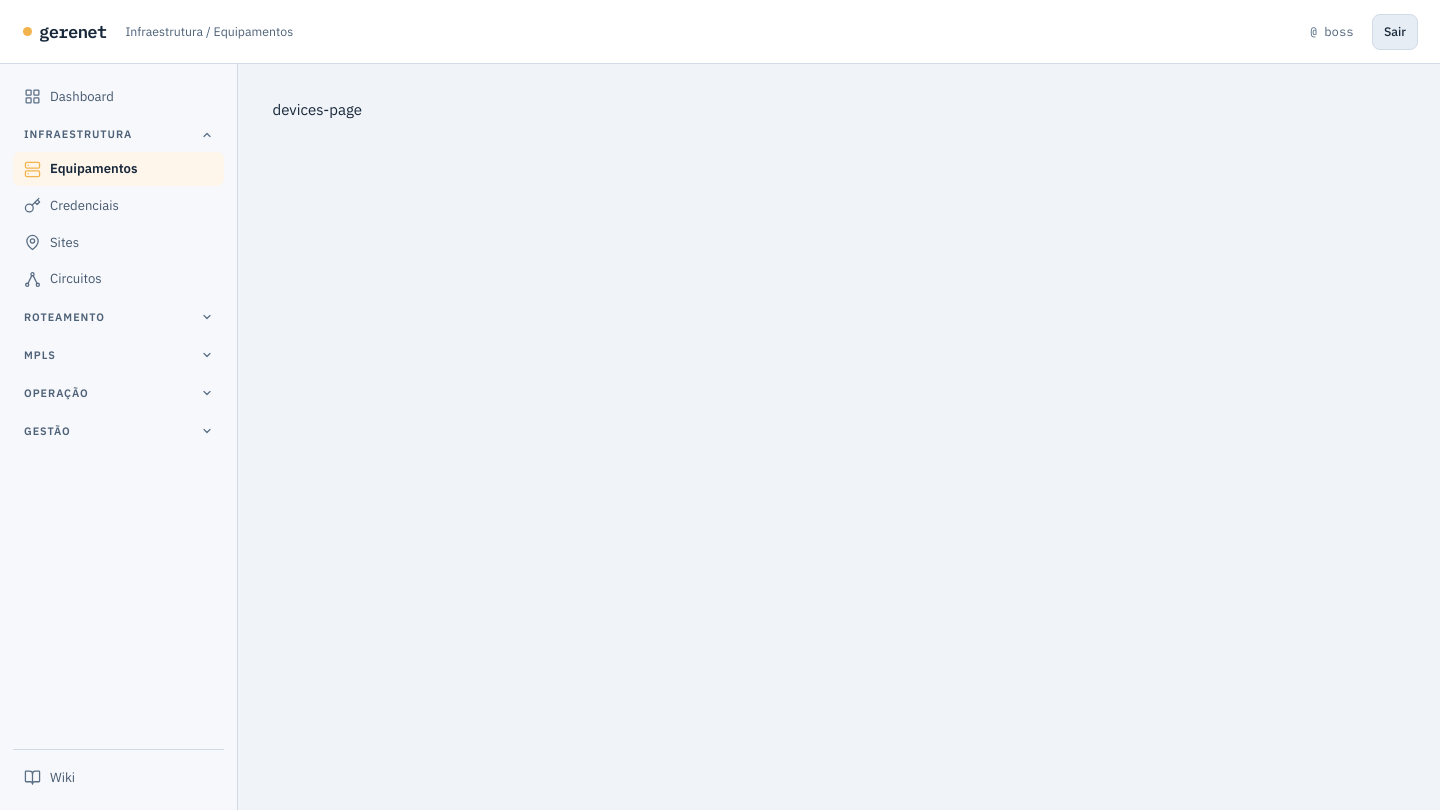
Test: Layout › sanfona: abre o grupo do item atual e alterna os demais pelo rótulo
Expected: the text "Equipamentos" is shown, top-left (50, 159), bottom-right (138, 179)
Expected: the text "Upstreams" is not shown
What coordinates should you click on to do the following:
click the button "Roteamento"
I would click on:
 (119, 317)
Its box is top-left (13, 300), bottom-right (224, 334).
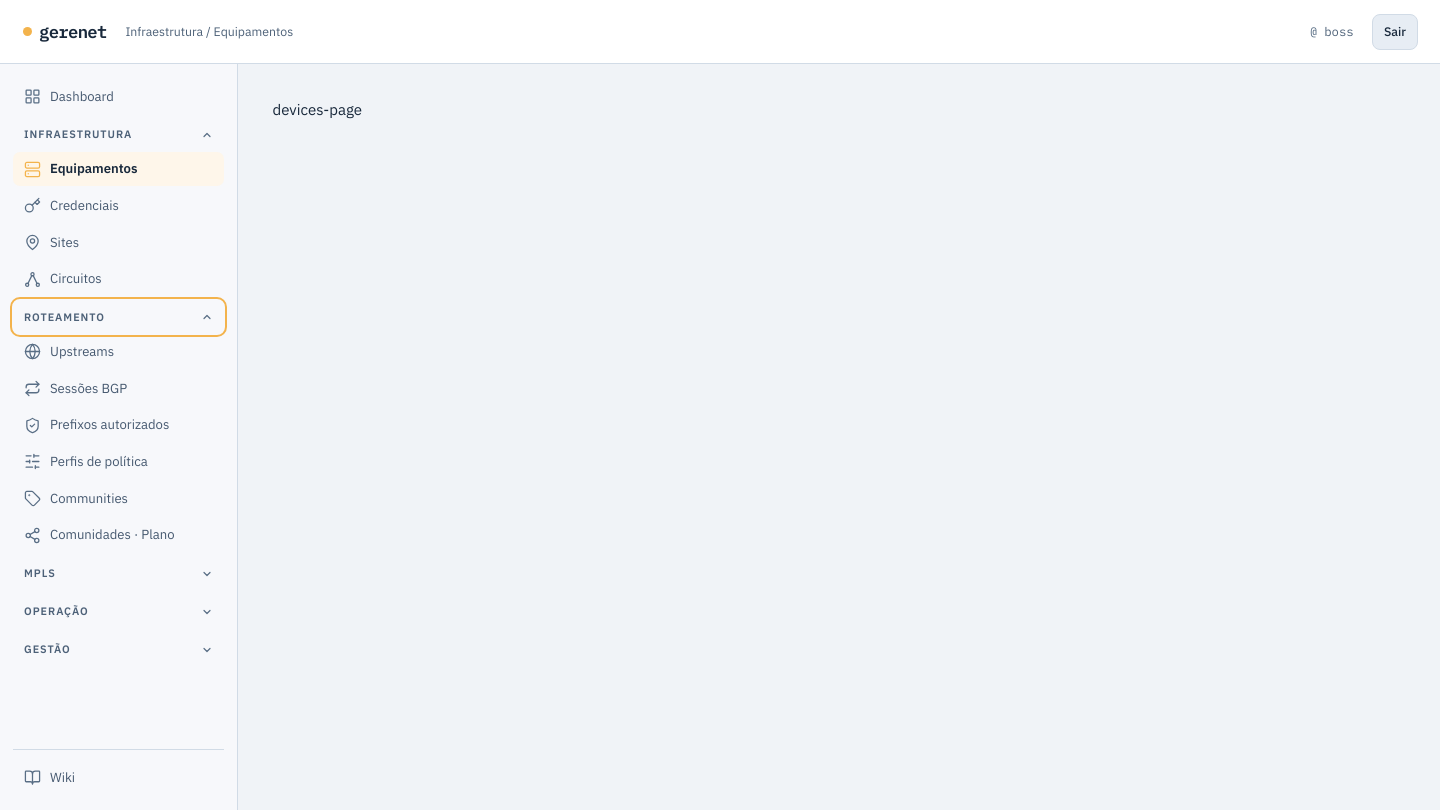
Result: the text "Upstreams" is shown at top-left (50, 342), bottom-right (114, 362)
What coordinates should you click on to do the following:
click the button "Roteamento"
I would click on:
 (119, 317)
Its box is top-left (13, 300), bottom-right (224, 334).
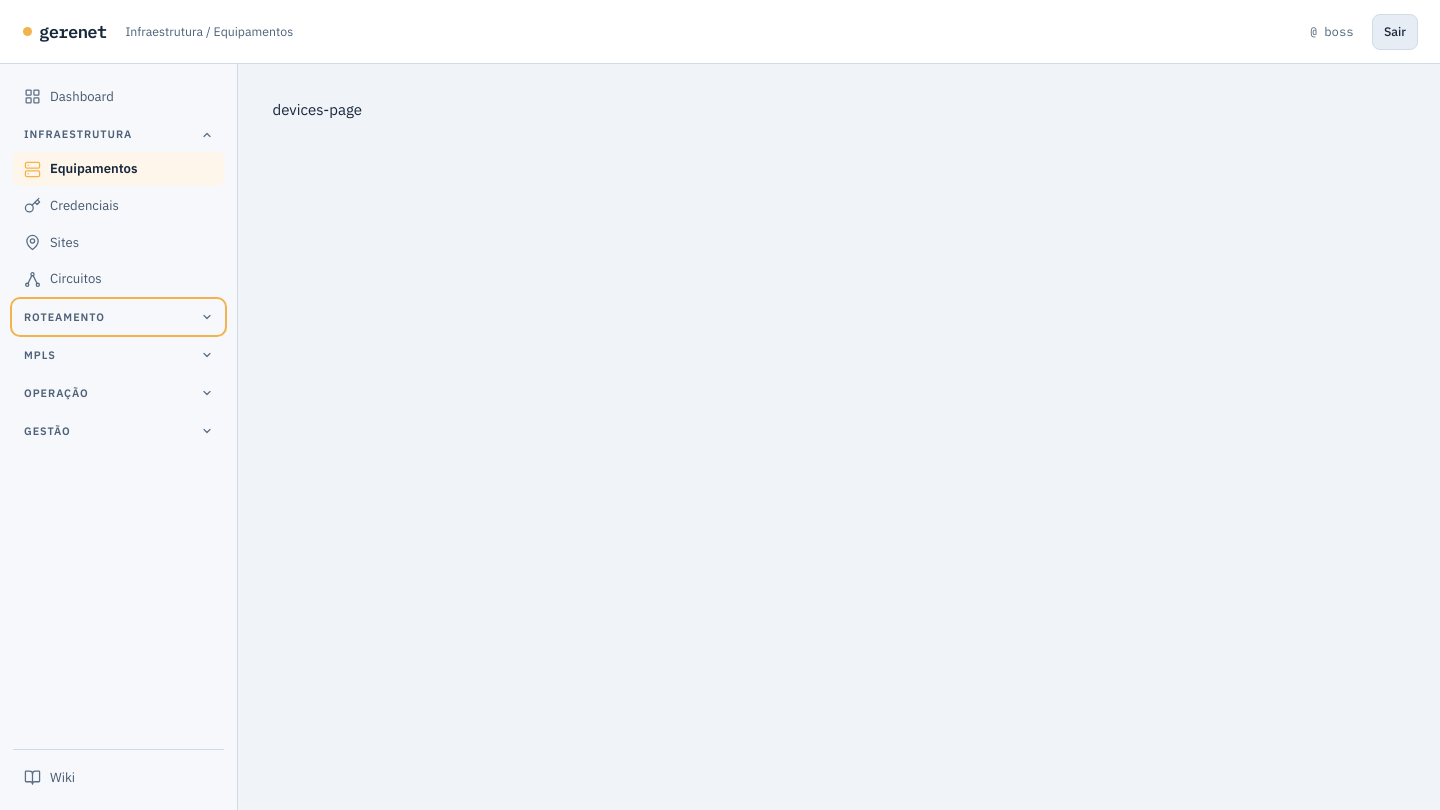
Result: the link "Upstreams" is gone
